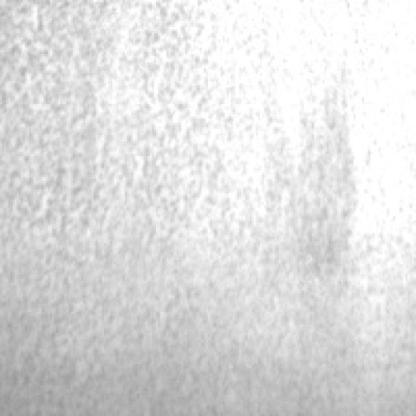pitted_surface: (4, 0, 356, 239)
